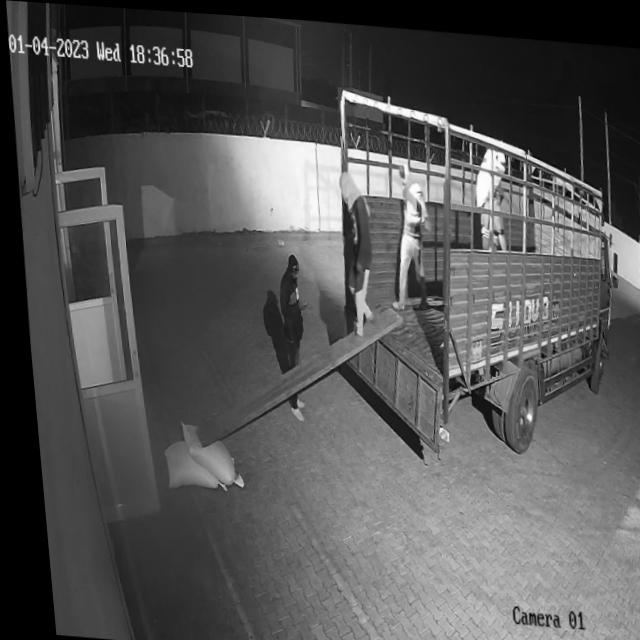sack: (170, 417, 236, 485), (154, 436, 218, 491), (467, 139, 508, 203)
